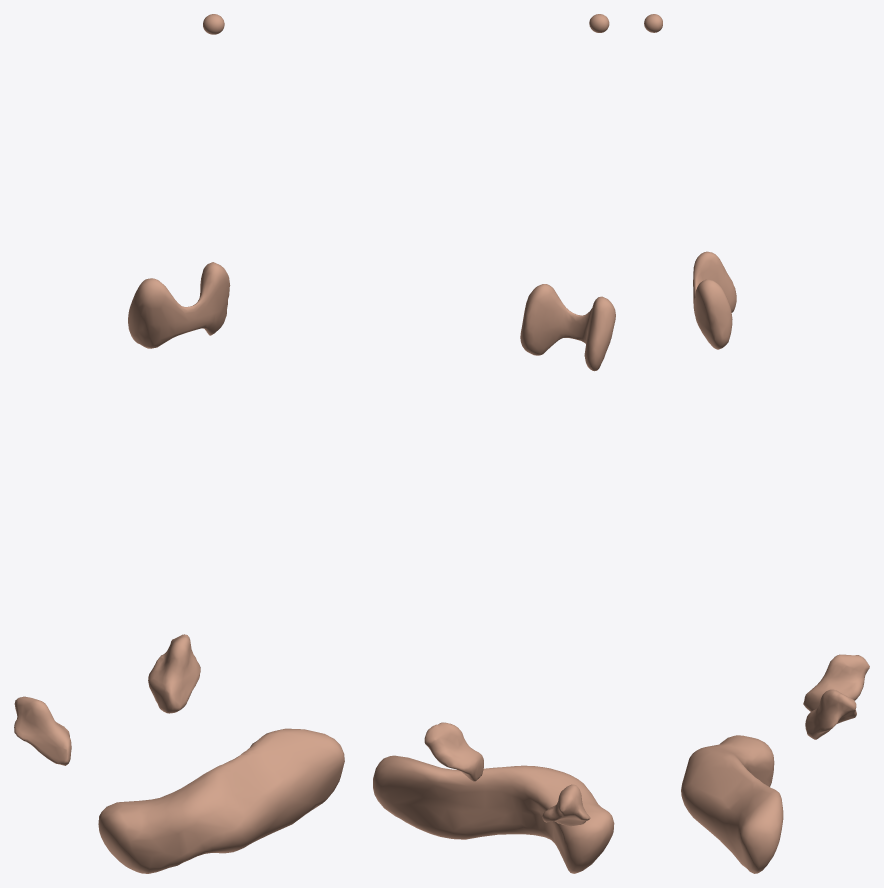
The model's file is pediatric_child_10y_male.endocrine.LOD0.glb.
The picture shows the model from 3 angles, left to right: view 1: azimuth 30°, elevation 25°; view 2: azimuth 150°, elevation 25°; view 3: azimuth 270°, elevation 25°; orthographic projection. The views are drawn at different scales.
Parts seen in each view (by area): view 1: PEDIATRIC.CHILD_10Y.MALE.ENDOCRINE.PANCREAS, PEDIATRIC.CHILD_10Y.MALE.ENDOCRINE.THYROID, PEDIATRIC.CHILD_10Y.MALE.ENDOCRINE.ADRENAL.L, PEDIATRIC.CHILD_10Y.MALE.ENDOCRINE.ADRENAL.R; view 2: PEDIATRIC.CHILD_10Y.MALE.ENDOCRINE.PANCREAS, PEDIATRIC.CHILD_10Y.MALE.ENDOCRINE.THYROID, PEDIATRIC.CHILD_10Y.MALE.ENDOCRINE.ADRENAL.L, PEDIATRIC.CHILD_10Y.MALE.ENDOCRINE.ADRENAL.R; view 3: PEDIATRIC.CHILD_10Y.MALE.ENDOCRINE.PANCREAS, PEDIATRIC.CHILD_10Y.MALE.ENDOCRINE.THYROID, PEDIATRIC.CHILD_10Y.MALE.ENDOCRINE.ADRENAL.R, PEDIATRIC.CHILD_10Y.MALE.ENDOCRINE.ADRENAL.L.
Boxes of the visible parts, box(x1,y1,x2,y2) form: PEDIATRIC.CHILD_10Y.MALE.ENDOCRINE.PANCREAS: box(98, 728, 344, 873); PEDIATRIC.CHILD_10Y.MALE.ENDOCRINE.THYROID: box(128, 262, 230, 348); PEDIATRIC.CHILD_10Y.MALE.ENDOCRINE.ADRENAL.L: box(148, 634, 200, 713); PEDIATRIC.CHILD_10Y.MALE.ENDOCRINE.ADRENAL.R: box(14, 696, 71, 765); PEDIATRIC.CHILD_10Y.MALE.ENDOCRINE.PANCREAS: box(373, 755, 614, 873); PEDIATRIC.CHILD_10Y.MALE.ENDOCRINE.THYROID: box(520, 284, 615, 371); PEDIATRIC.CHILD_10Y.MALE.ENDOCRINE.ADRENAL.L: box(424, 722, 483, 781); PEDIATRIC.CHILD_10Y.MALE.ENDOCRINE.ADRENAL.R: box(542, 784, 590, 826); PEDIATRIC.CHILD_10Y.MALE.ENDOCRINE.PANCREAS: box(681, 735, 783, 873); PEDIATRIC.CHILD_10Y.MALE.ENDOCRINE.THYROID: box(693, 251, 736, 349); PEDIATRIC.CHILD_10Y.MALE.ENDOCRINE.ADRENAL.R: box(803, 654, 869, 711); PEDIATRIC.CHILD_10Y.MALE.ENDOCRINE.ADRENAL.L: box(805, 689, 856, 739).
Size of the model in its own units: 0.133 by 0.4041 by 0.1033.
